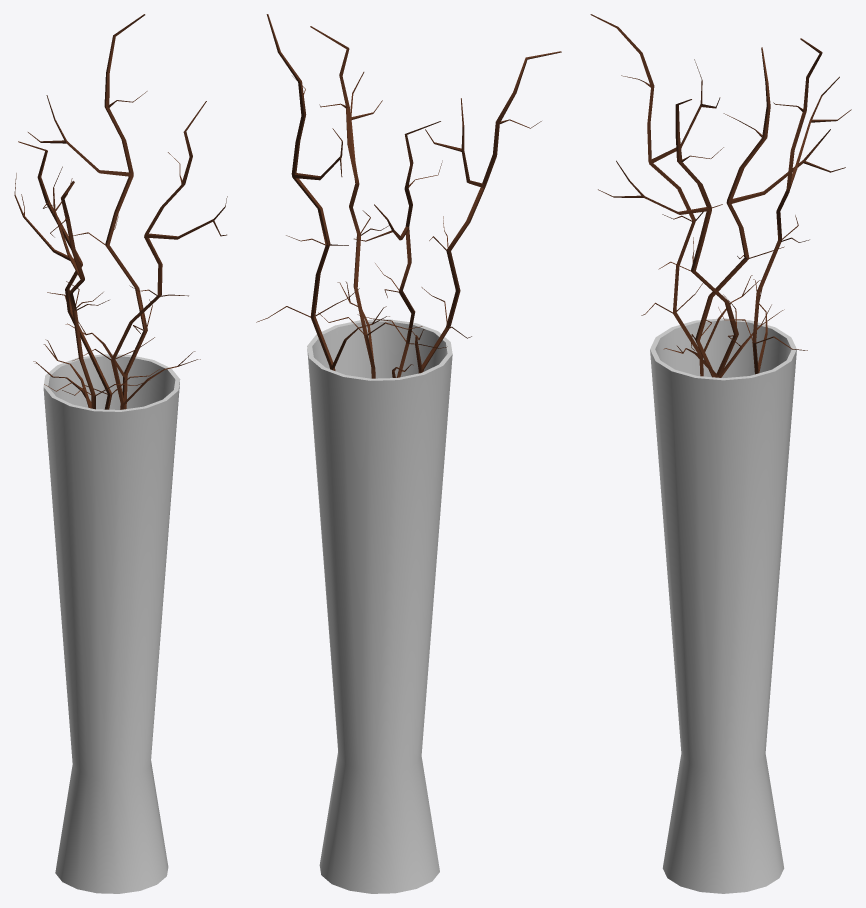
Rendered from vase_1.FBX.
3 views of the same model, side by side, from view 1: azimuth 30°, elevation 25°; view 2: azimuth 150°, elevation 25°; view 3: azimuth 270°, elevation 25° (orthographic). The views are drawn at different scales.
Visible parts, largest first — view 1: vase_1; view 2: vase_1; view 3: vase_1.
Part boxes in pixels (bbox=[...]): vase_1: bbox=[14, 14, 227, 893]; vase_1: bbox=[256, 14, 561, 893]; vase_1: bbox=[590, 14, 851, 893].
Bounding box in the file's own units: 0.1585 × 0.6498 × 0.1776.
